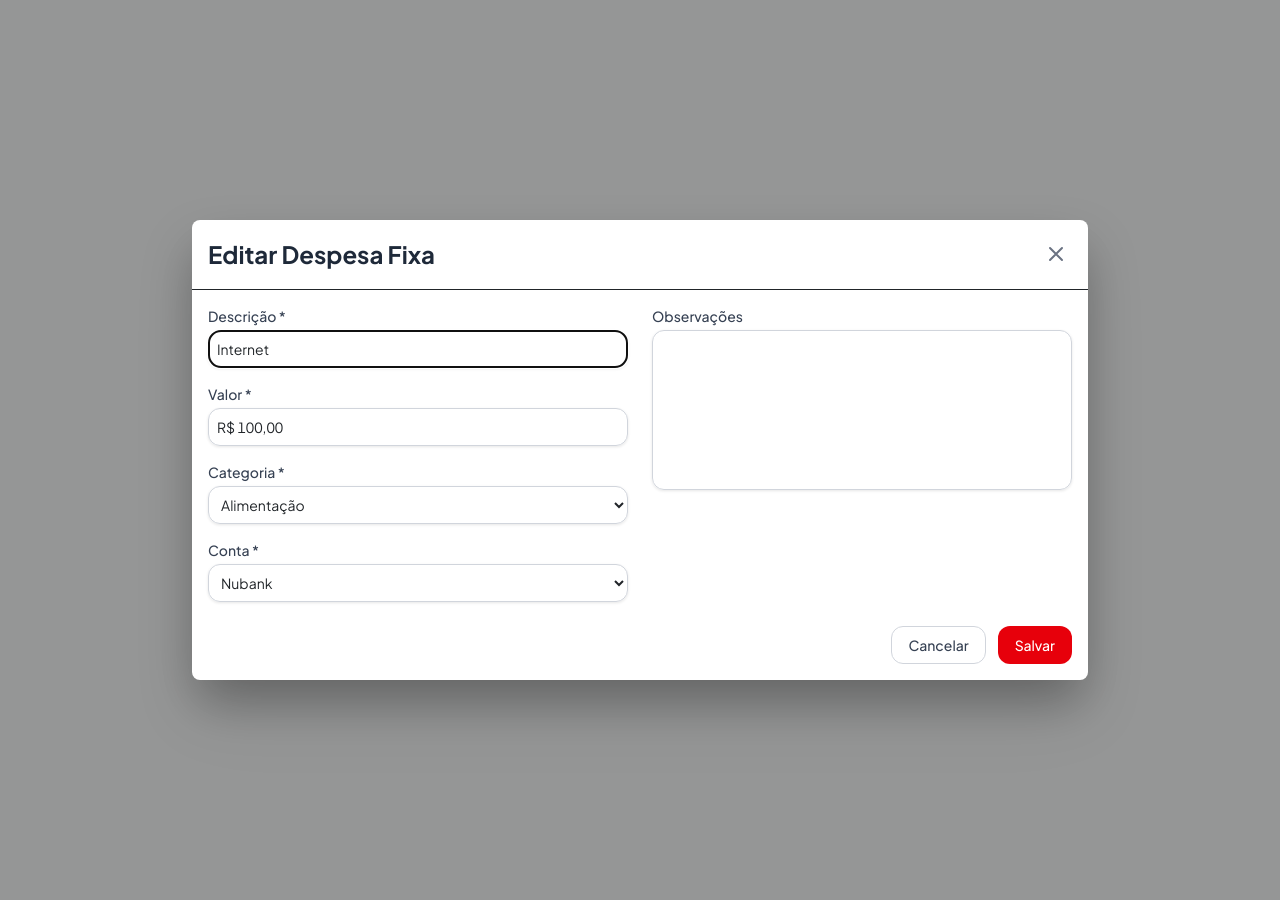
Test case: MovimentacaoForm - Componentes Compartilhados › MovimentacaoFixaFormModal › limpa erro de submissão (submit) ao alterar qualquer campo
This screenshot has width=1280, height=900.
Click the button "Salvar" at (1035, 645), box [998, 626, 1072, 664]
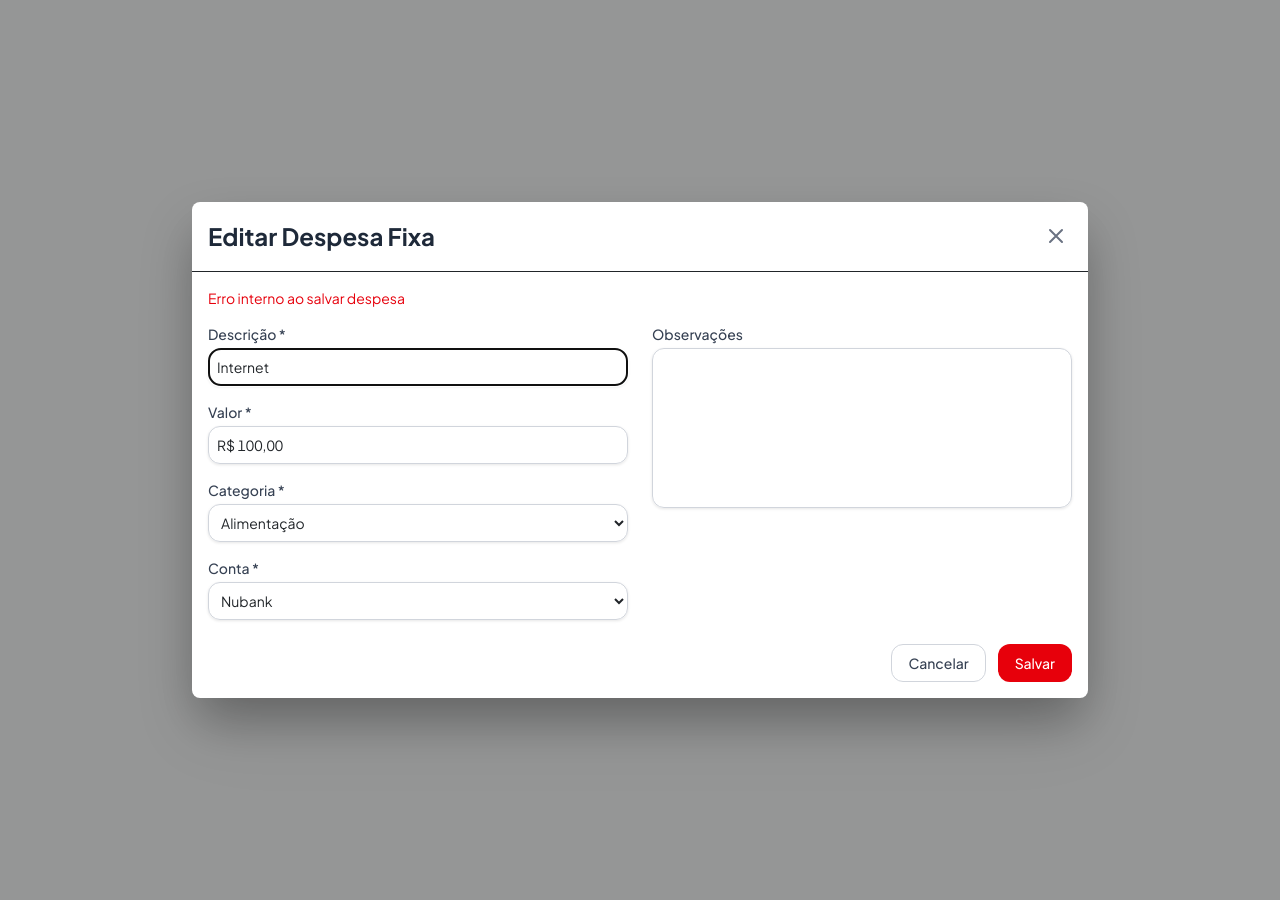
Now the text "Erro interno ao salvar despesa" is shown, box [208, 289, 405, 307]
Replace the text in the field labelled "Descrição *" with "Internet Fibra" at (418, 367), box [208, 348, 628, 386]
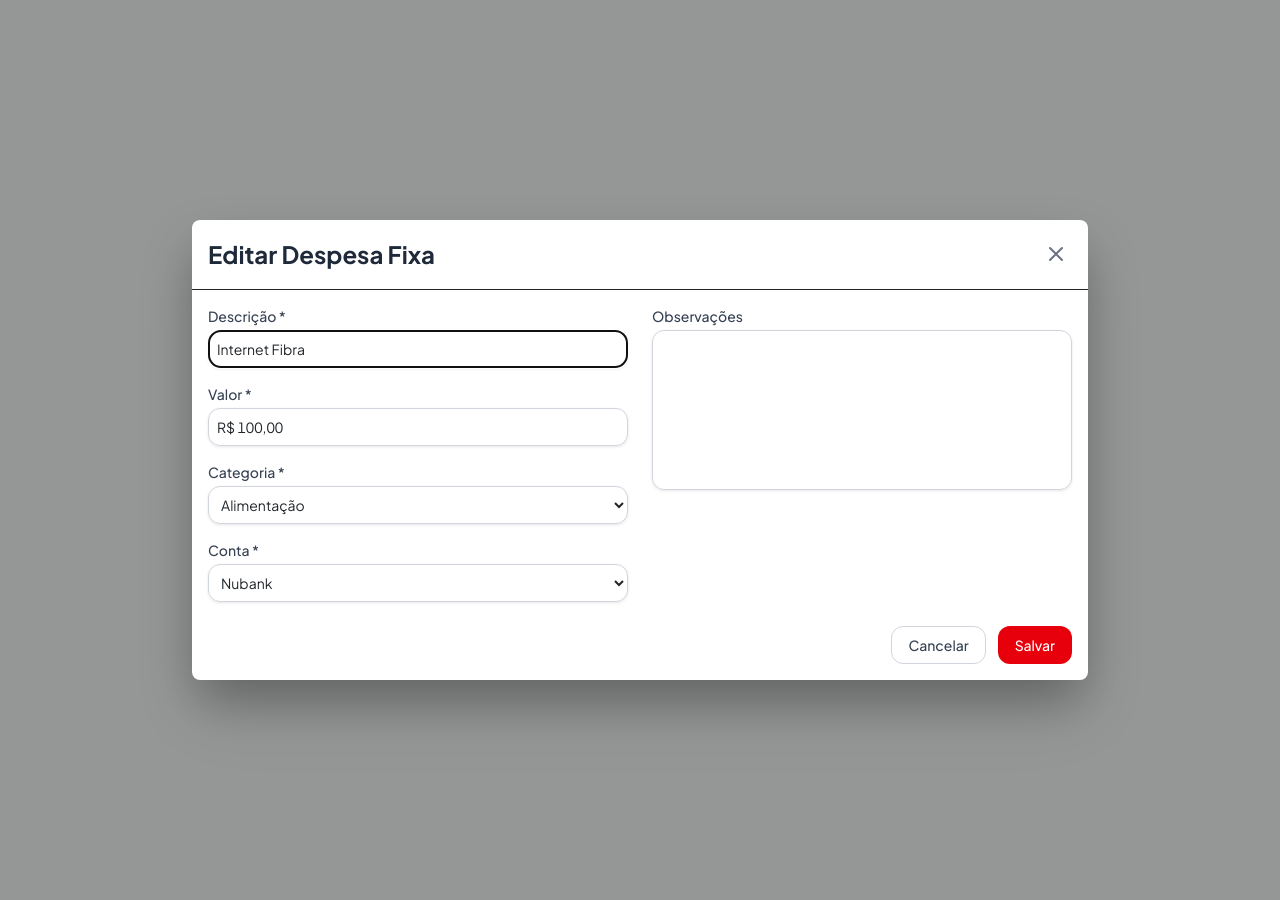
Now the text "Erro interno ao salvar despesa" is gone
